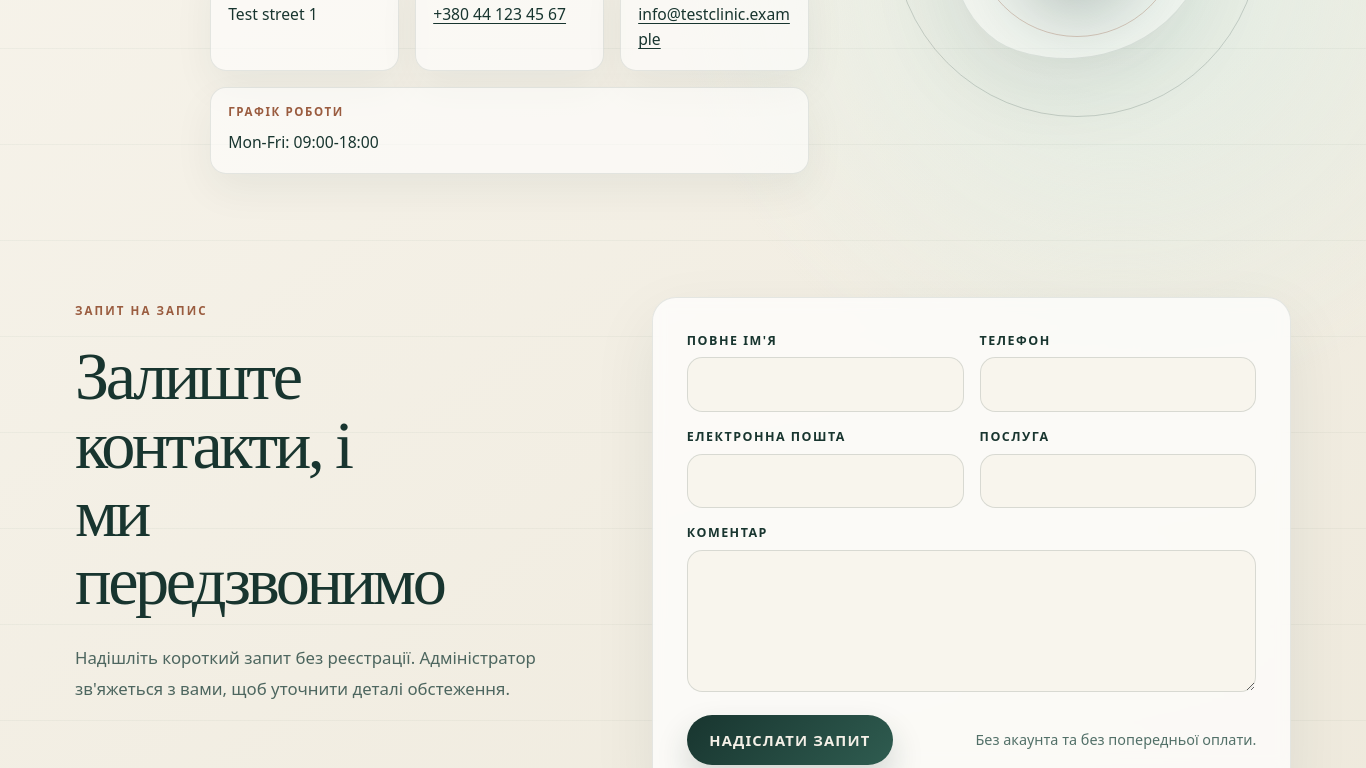
Test case: public clinic information › submits the appointment request and shows the confirmation message
(page scrolled)
Type "Test Patient" into the field labelled "Повне ім'я".
click(825, 384); type("Test Patient")  # box [687,357,964,412]
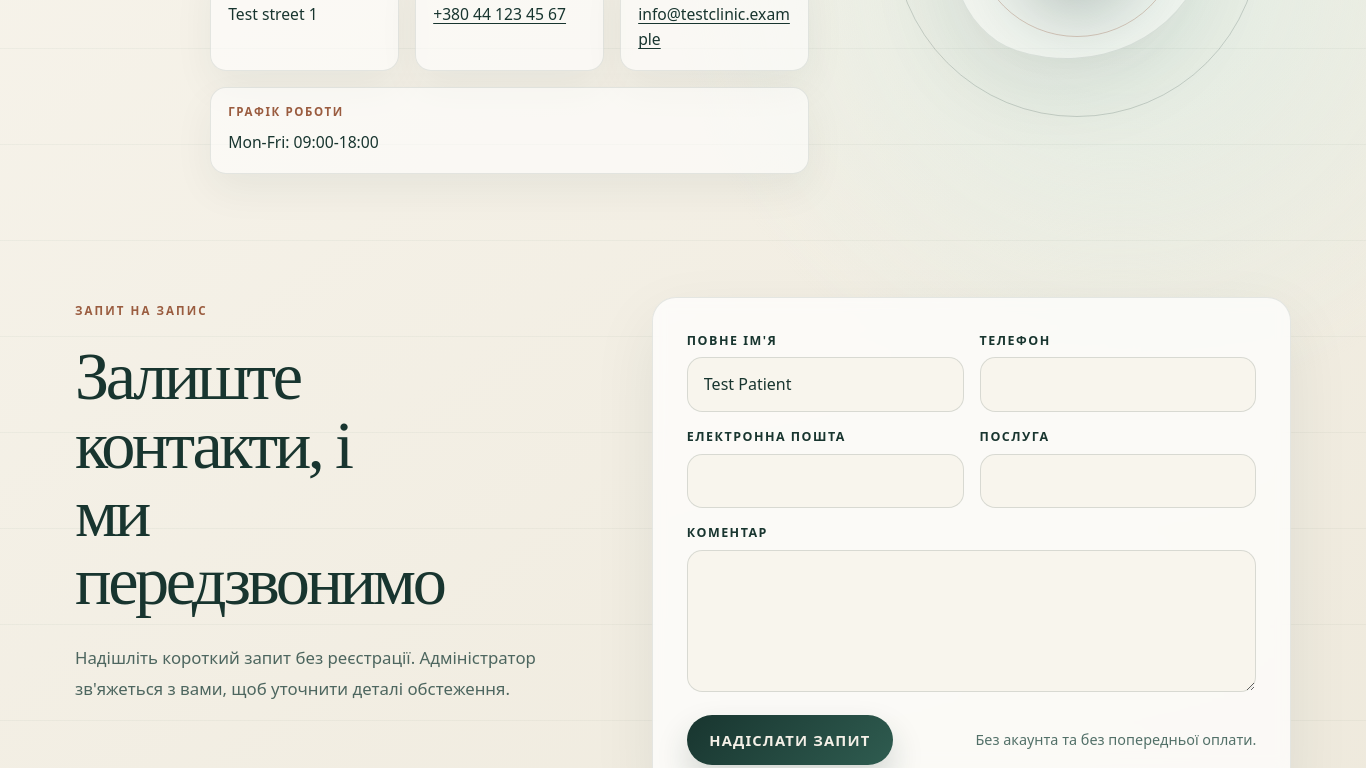
Type "+380 44 123 45 67" into the field labelled "Телефон".
click(1118, 384); type("+380 44 123 45 67")  # box [980,357,1256,412]
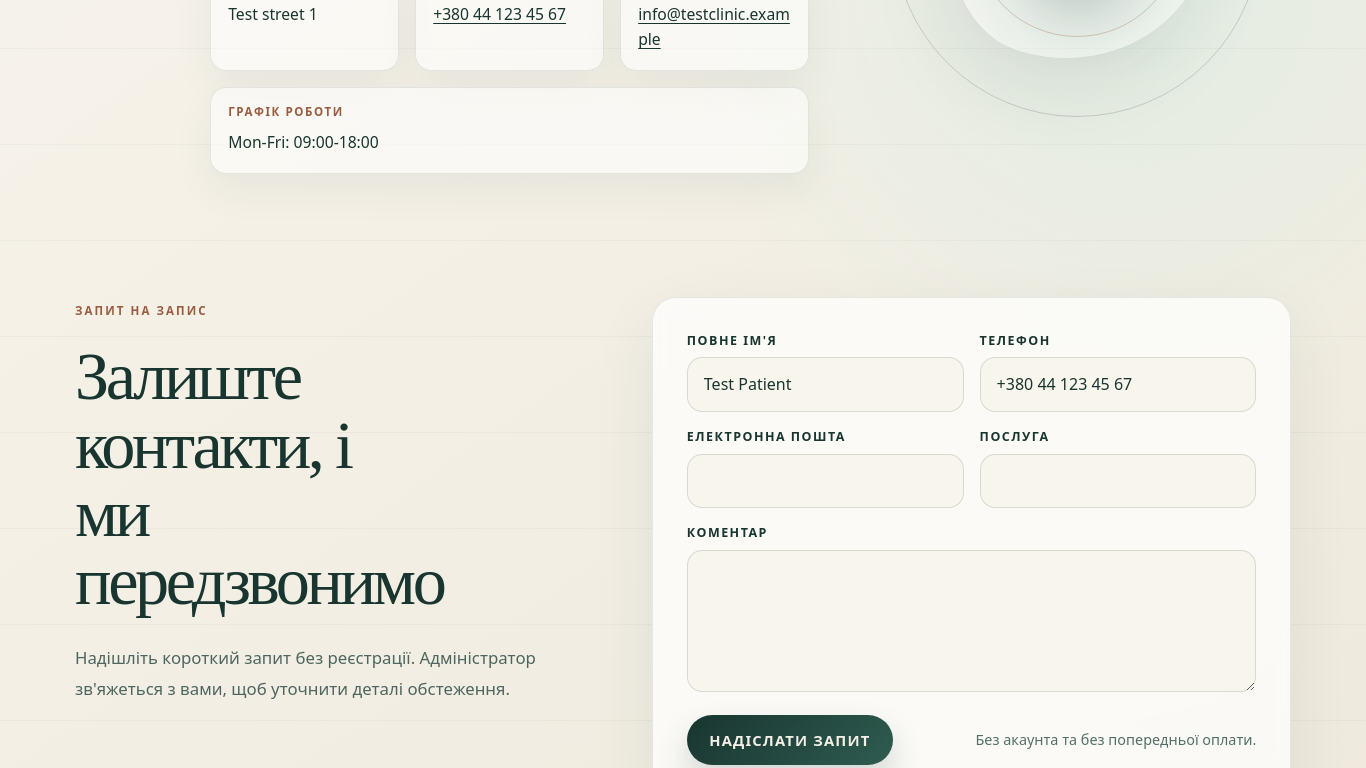
Type "patient@example.com" into the field labelled "Електронна пошта".
click(825, 481); type("patient@example.com")  # box [687,453,964,508]
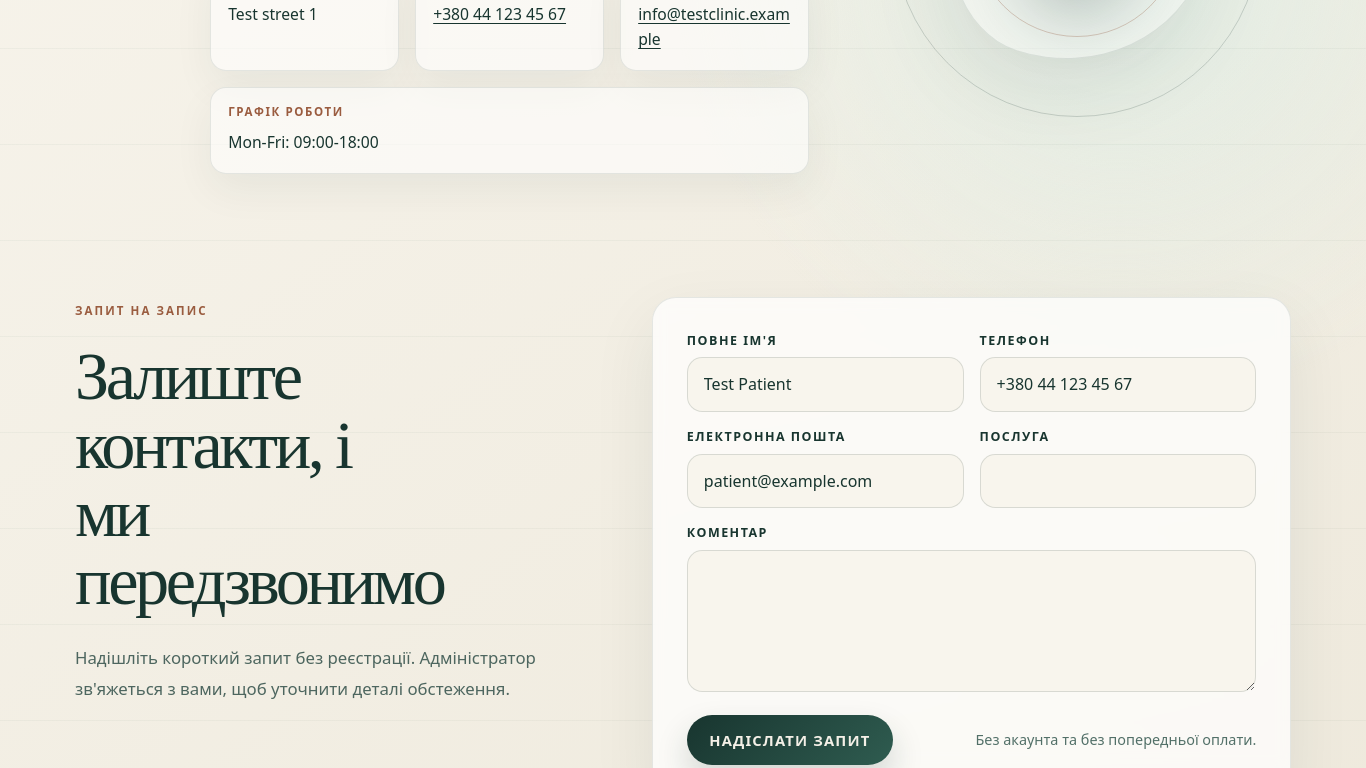
Type "Abdominal ultrasound" into the field labelled "Послуга".
click(1118, 481); type("Abdominal ultrasound")  # box [980,453,1256,508]
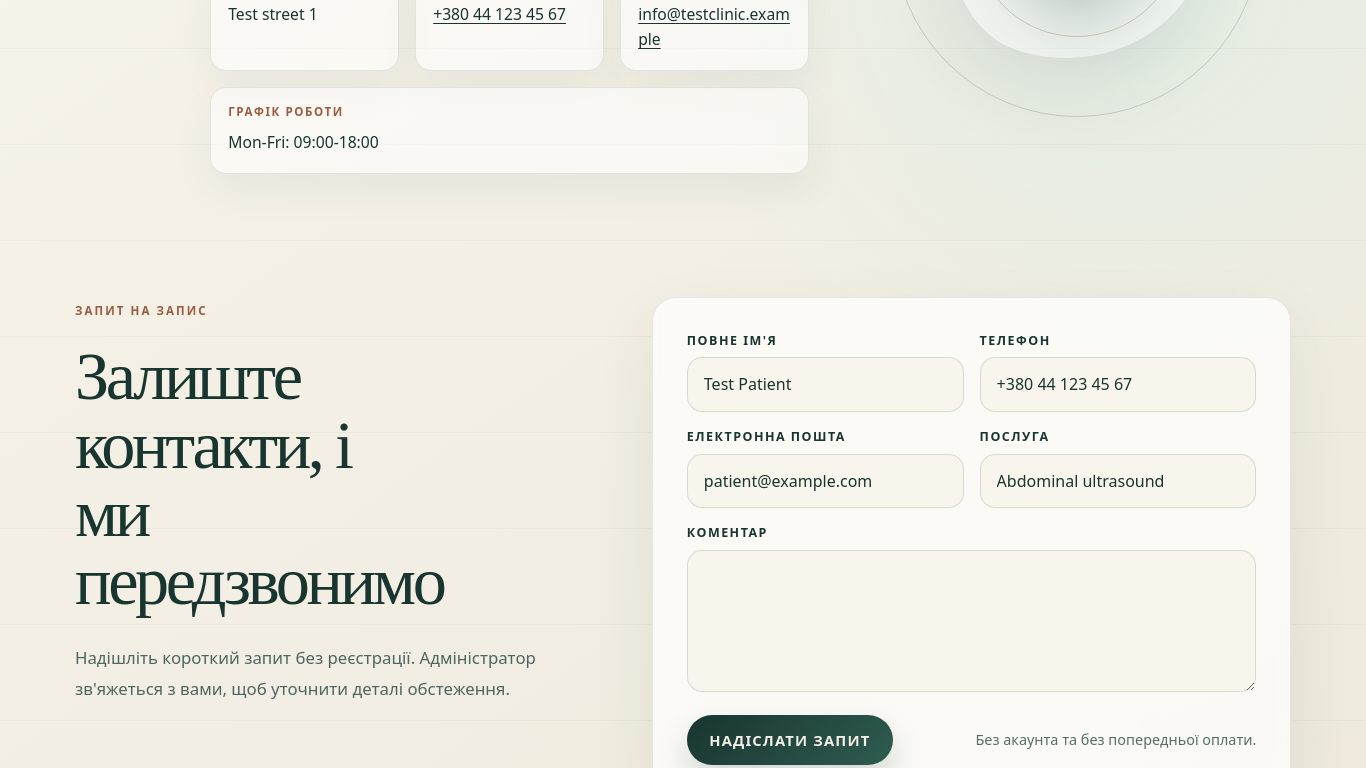
Type "Please call after 14:00" into the text box labelled "Коментар".
click(972, 621); type("Please call after 14:00")  # box [687,550,1256,692]
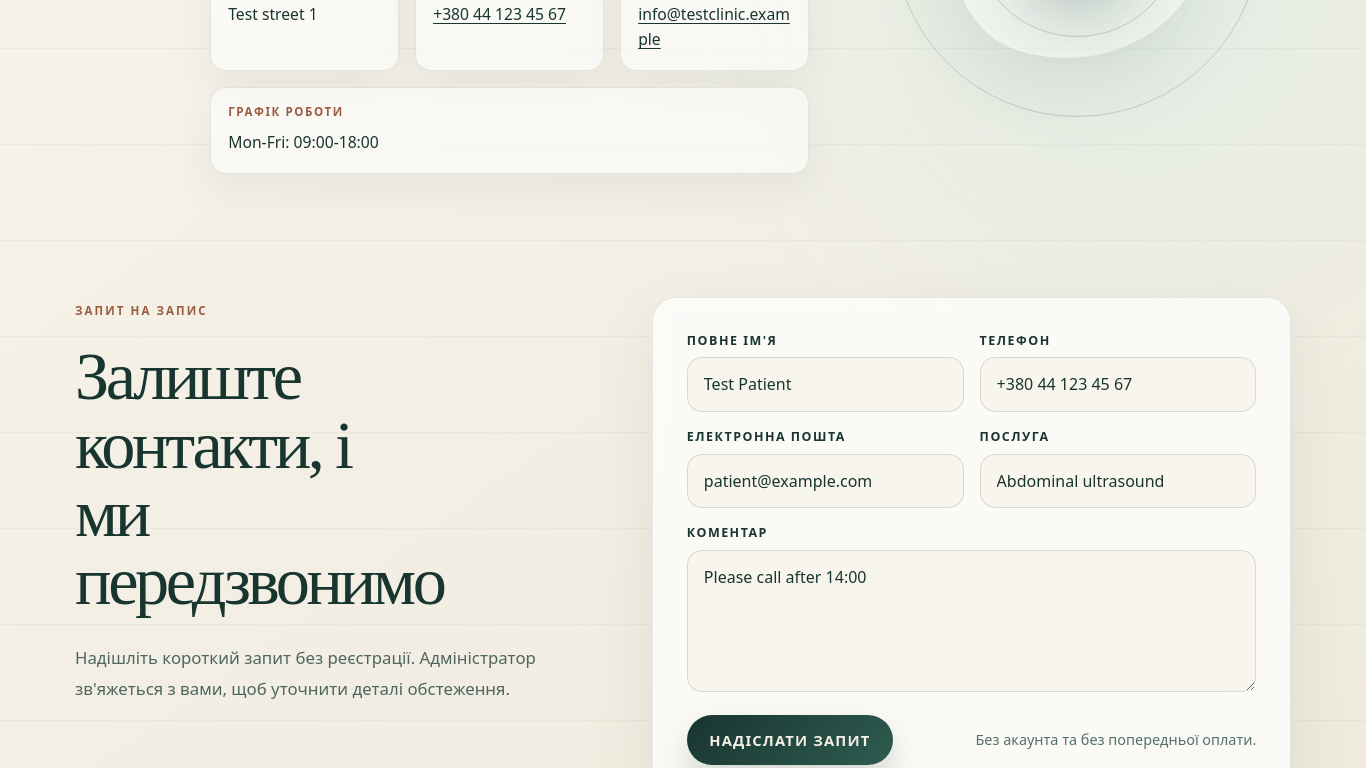
Click the button "Надіслати запит".
click(790, 740)  # box [687,714,893,765]
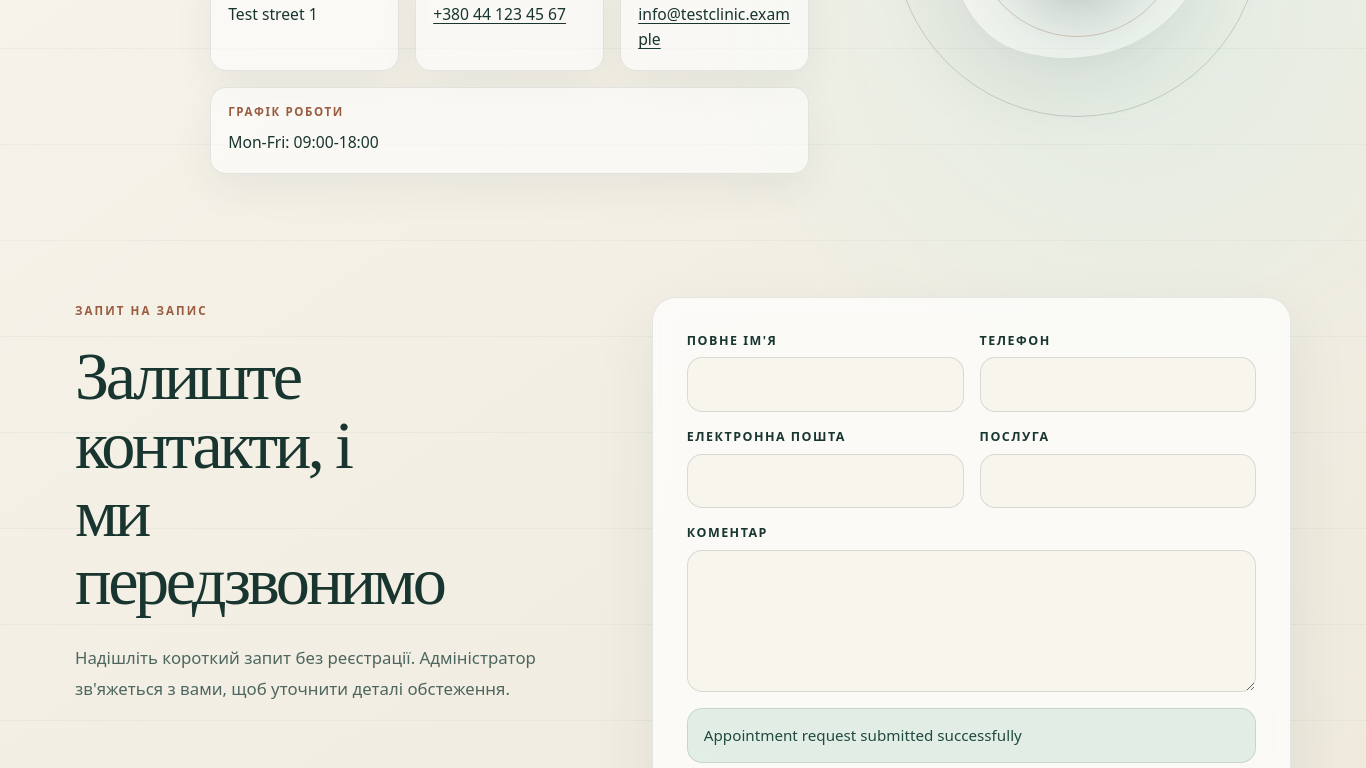
Result: the text "Appointment request submitted successfully" is shown at [687,708,1256,763]
